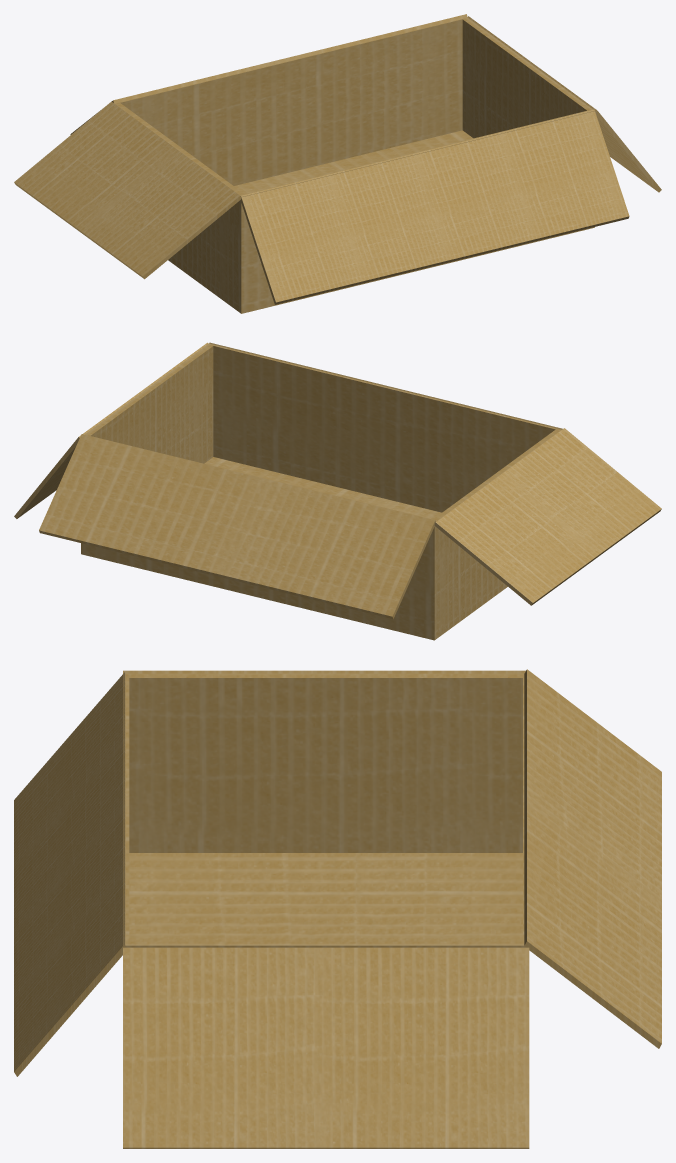
Rendered from Cardboard_D.fbx.
3 views of the same model, one above another, from view 1: azimuth 30°, elevation 25°; view 2: azimuth 150°, elevation 25°; view 3: azimuth 270°, elevation 25° (orthographic). The views are drawn at different scales.
Visible parts, largest first — view 1: Cardboard_Dtype; view 2: Cardboard_Dtype; view 3: Cardboard_Dtype.
Part boxes in pixels (x1,y1,x2,y2): Cardboard_Dtype: [14, 14, 661, 313]; Cardboard_Dtype: [14, 342, 661, 640]; Cardboard_Dtype: [14, 669, 661, 1148].
Size of the model in its own units: 465 by 103 by 319.
